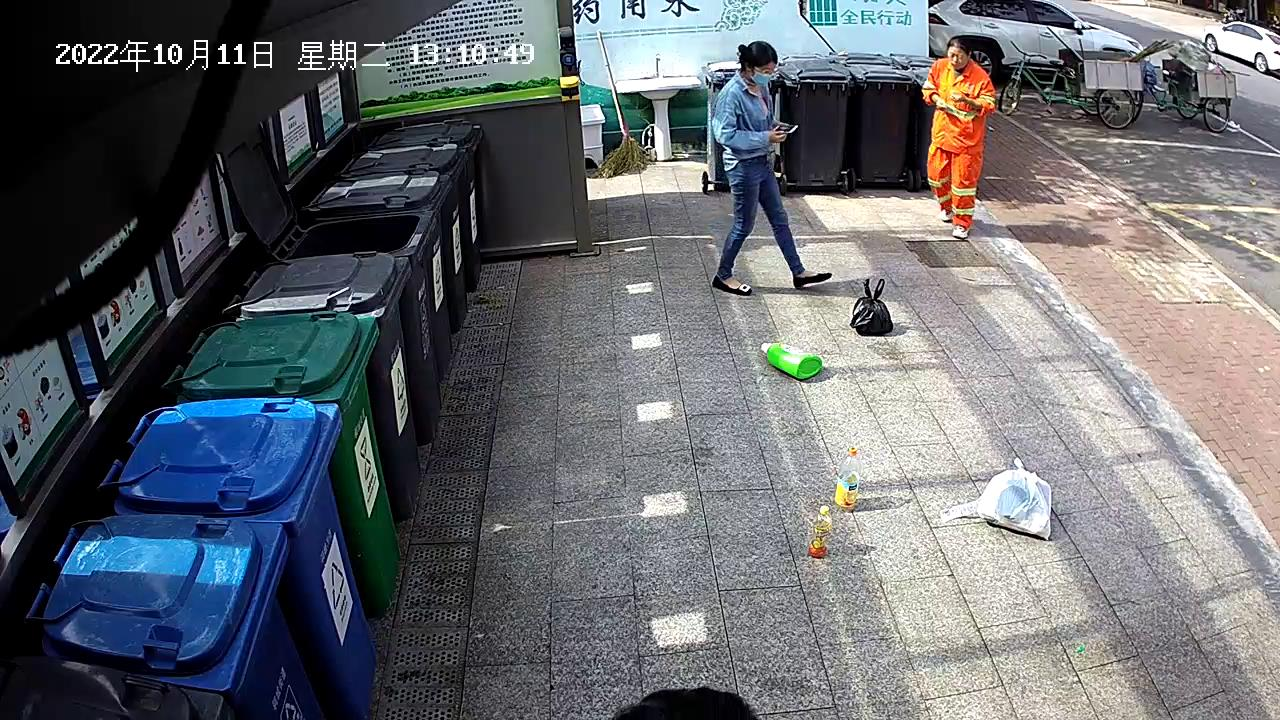garbage-bag: (974, 455, 1057, 544), (849, 276, 894, 338)
suliaozhipin: (758, 338, 825, 381), (832, 445, 862, 512), (805, 502, 835, 560)
worker: (708, 39, 833, 298), (919, 34, 998, 240)
